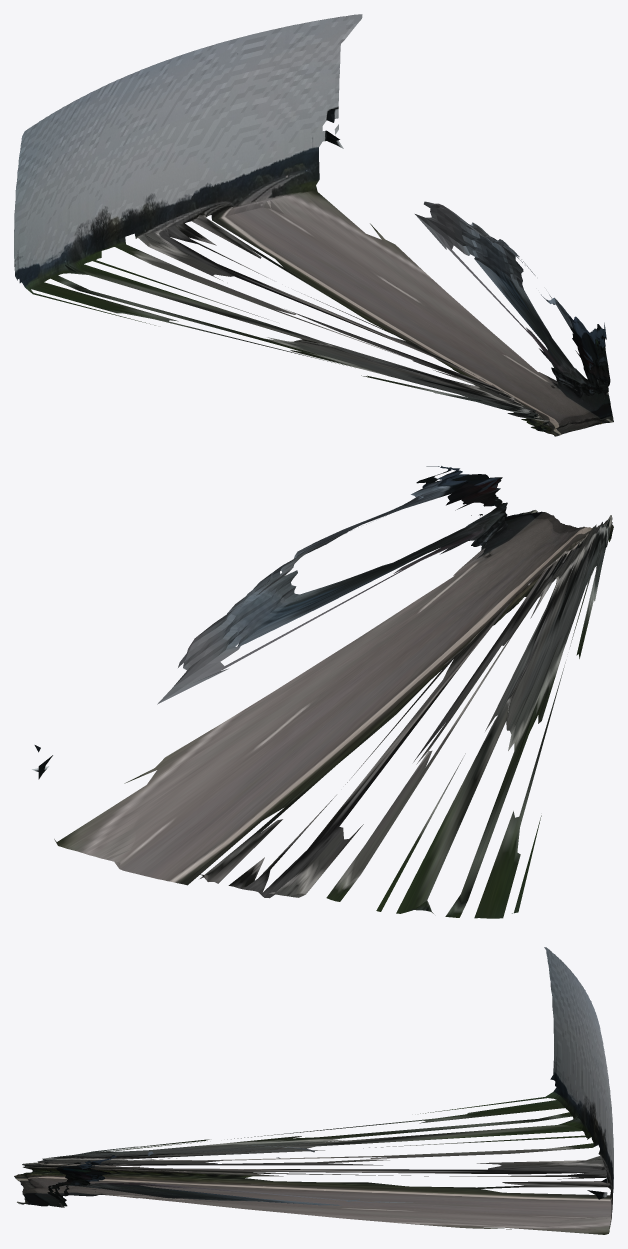
3 views of the same model, one above another, from view 1: azimuth 30°, elevation 25°; view 2: azimuth 150°, elevation 25°; view 3: azimuth 270°, elevation 25° (orthographic). The views are drawn at different scales.
Visible parts, largest first — view 1: defaultobject; view 2: defaultobject; view 3: defaultobject.
Part boxes in pixels (<box>): defaultobject: <box>14,14,613,436</box>; defaultobject: <box>32,466,613,918</box>; defaultobject: <box>14,947,613,1234</box>.
Bounding box in the file's own units: 28.44 × 13.23 × 44.78.
1 material, 1 textured.
